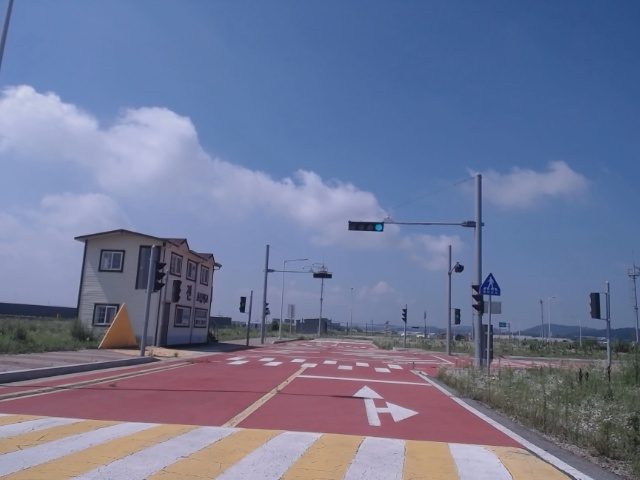straight_green_4: (348, 222, 384, 231)
